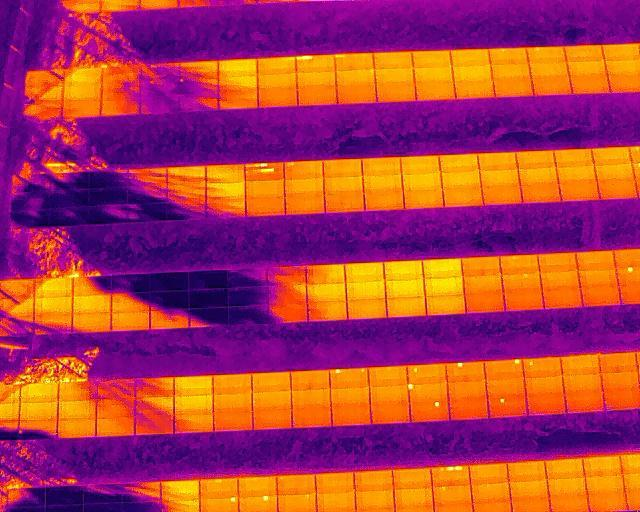Cell: (486, 394, 526, 417), (410, 401, 449, 423), (432, 486, 472, 506), (408, 382, 449, 401), (484, 359, 524, 378), (407, 365, 447, 383), (446, 363, 485, 381), (239, 495, 279, 512), (199, 480, 238, 497), (523, 358, 561, 374), (200, 497, 239, 512)
Cell-Multi: (433, 466, 472, 486), (329, 368, 368, 388), (244, 162, 285, 179)
No-Anomaly: (449, 394, 488, 422), (284, 191, 325, 215), (371, 400, 411, 424), (253, 406, 292, 429), (564, 390, 603, 413), (213, 407, 253, 429), (292, 405, 332, 427), (599, 178, 638, 200), (331, 404, 370, 426), (112, 310, 151, 332), (386, 297, 426, 318), (347, 299, 387, 320), (545, 457, 585, 478), (174, 375, 214, 396), (526, 393, 564, 415), (277, 474, 318, 494), (539, 270, 580, 290), (375, 81, 416, 101), (325, 192, 364, 213), (365, 191, 404, 212), (393, 468, 432, 489), (307, 283, 346, 304), (73, 312, 112, 333), (561, 353, 598, 375), (424, 259, 464, 279), (543, 289, 583, 309), (161, 480, 201, 500), (469, 463, 509, 483), (583, 456, 623, 476), (462, 257, 500, 278), (560, 180, 599, 200), (587, 475, 626, 495), (354, 471, 393, 491), (504, 291, 543, 311), (298, 88, 337, 108), (355, 490, 394, 510), (471, 483, 510, 503), (577, 270, 618, 289), (33, 294, 74, 313), (415, 82, 456, 101), (603, 389, 640, 410), (403, 190, 443, 209), (316, 493, 356, 512), (277, 493, 317, 512), (384, 260, 424, 279), (308, 303, 348, 322), (218, 91, 258, 110), (495, 78, 535, 97), (563, 373, 601, 393), (174, 394, 214, 413), (96, 417, 135, 436), (246, 196, 285, 215), (316, 474, 355, 493), (501, 255, 540, 274), (525, 374, 564, 393), (394, 488, 433, 507), (443, 187, 484, 205), (346, 281, 387, 299), (291, 388, 332, 406), (426, 296, 464, 315), (362, 156, 400, 175), (508, 461, 546, 480), (482, 185, 522, 203), (402, 172, 442, 190), (577, 252, 617, 270), (424, 278, 464, 296), (238, 478, 278, 496), (547, 478, 587, 496), (72, 295, 112, 313), (336, 86, 376, 104), (258, 90, 298, 108), (454, 81, 494, 99), (297, 71, 337, 89), (257, 56, 297, 74), (252, 388, 292, 406), (291, 370, 331, 388), (251, 371, 291, 389), (368, 366, 408, 384), (599, 353, 636, 372), (57, 418, 96, 436), (19, 402, 58, 420), (307, 265, 346, 283), (581, 289, 620, 307), (401, 155, 440, 173), (284, 160, 323, 178), (63, 99, 102, 117), (570, 76, 609, 94), (20, 384, 59, 402), (369, 384, 408, 402), (464, 295, 505, 312), (175, 414, 213, 432), (58, 400, 96, 418), (502, 273, 540, 291), (509, 481, 547, 499), (587, 495, 627, 512), (345, 264, 385, 281), (554, 149, 594, 166), (595, 162, 635, 179), (322, 160, 362, 177), (63, 83, 103, 100), (374, 52, 414, 69), (451, 49, 491, 66), (485, 378, 525, 395), (528, 63, 570, 79), (206, 181, 245, 198), (521, 183, 560, 200), (386, 280, 425, 297), (463, 277, 502, 294), (478, 153, 517, 170), (362, 175, 403, 191), (538, 254, 579, 270), (452, 66, 493, 82), (412, 51, 453, 67), (601, 372, 639, 389), (323, 176, 363, 192), (245, 180, 285, 196), (517, 168, 557, 184), (533, 80, 573, 96), (258, 74, 298, 90), (567, 61, 607, 77), (447, 379, 487, 395), (479, 170, 521, 185), (215, 391, 252, 408), (284, 177, 323, 193), (218, 60, 257, 76), (489, 49, 528, 65), (213, 374, 252, 390), (565, 47, 606, 62), (550, 496, 588, 512), (593, 147, 631, 163), (440, 156, 478, 172), (527, 48, 565, 64), (516, 152, 556, 167), (166, 165, 206, 180), (101, 101, 141, 116), (63, 68, 103, 83), (330, 388, 370, 403), (205, 165, 242, 181), (374, 68, 416, 82), (218, 75, 257, 90), (336, 69, 375, 84), (491, 65, 530, 80), (413, 67, 454, 81), (441, 172, 481, 186), (556, 167, 595, 180), (512, 500, 550, 512)
Shadowing: (33, 313, 72, 336), (83, 484, 125, 505), (228, 286, 269, 307), (166, 199, 205, 221), (45, 486, 84, 508), (128, 184, 168, 205), (150, 289, 190, 310), (189, 307, 229, 328), (73, 275, 113, 295), (111, 292, 151, 312), (149, 309, 189, 329), (86, 185, 128, 204), (46, 172, 88, 191), (135, 377, 174, 397), (135, 415, 175, 434), (34, 278, 74, 297), (23, 100, 63, 119), (124, 482, 162, 502), (86, 204, 128, 222), (140, 80, 182, 98), (47, 208, 86, 227), (269, 266, 308, 285), (189, 288, 228, 307), (135, 396, 174, 415), (7, 488, 44, 508), (139, 62, 180, 80), (190, 269, 228, 288), (269, 304, 307, 323), (97, 379, 135, 398), (111, 275, 151, 293), (205, 198, 245, 216), (150, 273, 190, 291), (229, 307, 269, 325), (270, 285, 307, 304), (168, 181, 207, 199), (96, 399, 135, 417), (58, 382, 97, 400), (46, 191, 87, 208), (87, 169, 128, 186), (228, 268, 269, 285), (22, 83, 63, 100), (19, 421, 57, 439), (128, 204, 166, 222), (102, 66, 142, 83), (181, 93, 218, 111), (181, 75, 218, 93), (12, 172, 45, 192), (140, 98, 181, 114), (12, 193, 48, 211), (11, 212, 47, 230), (128, 167, 167, 183), (102, 84, 141, 100), (22, 69, 64, 83), (181, 60, 218, 75)
Unclassified: (335, 53, 374, 68), (295, 56, 335, 70)
